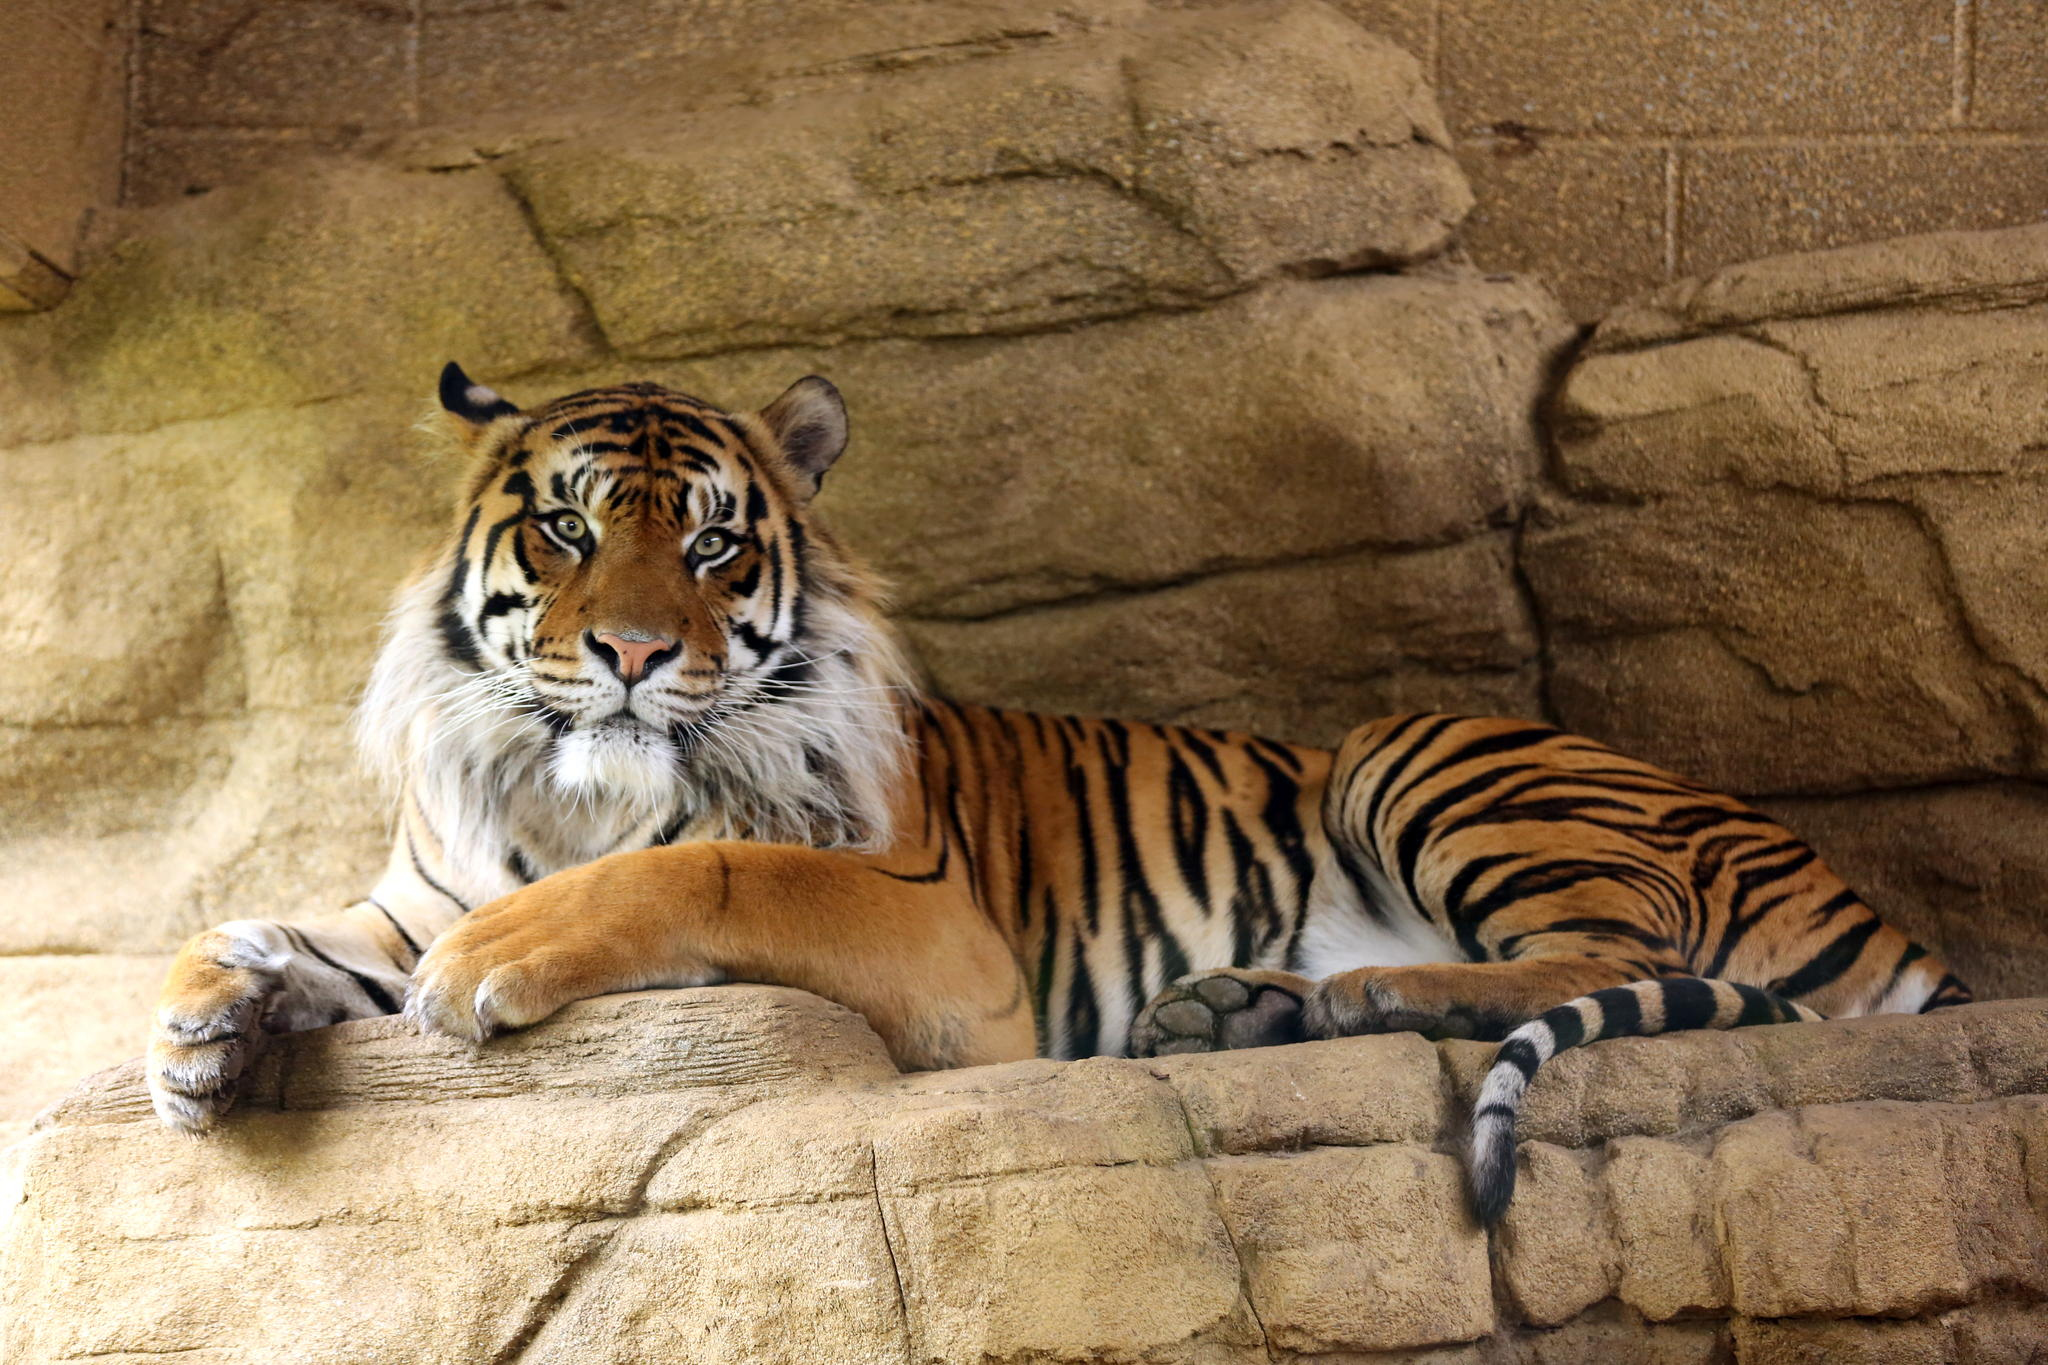tiger: (212, 379, 1932, 1165)
